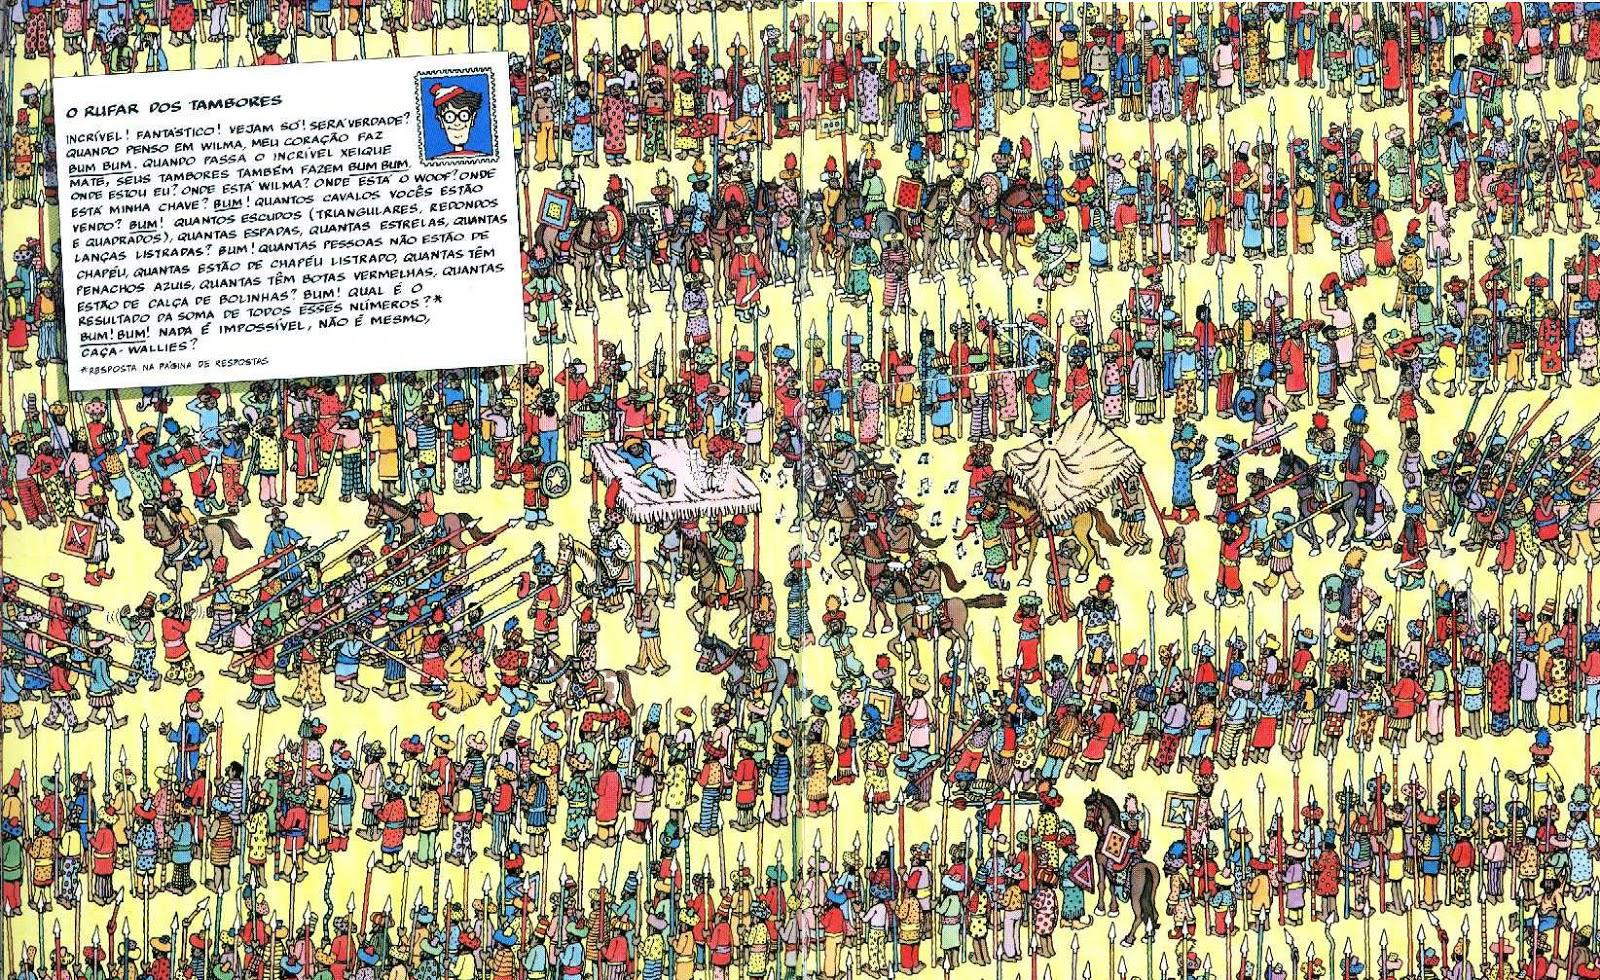waldo: (427, 83, 483, 145), (715, 156, 733, 180)
